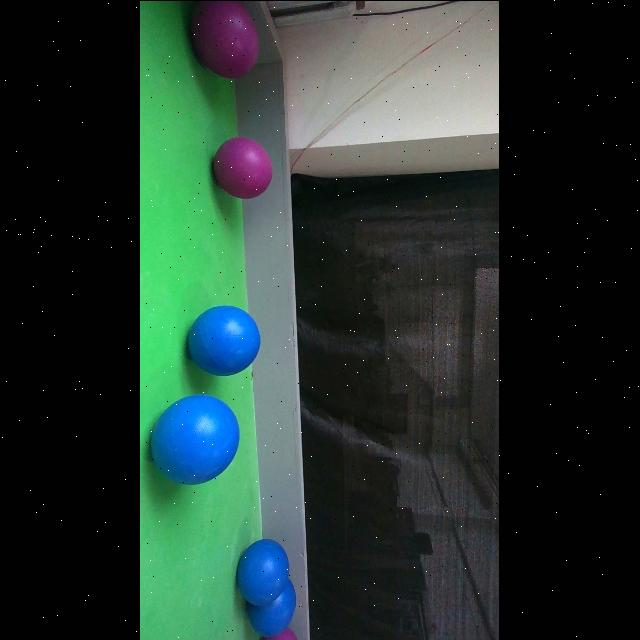B: (151, 394, 241, 484), (187, 304, 261, 376), (236, 580, 302, 634), (238, 538, 290, 606)
P: (190, 0, 260, 78), (214, 136, 274, 198)
